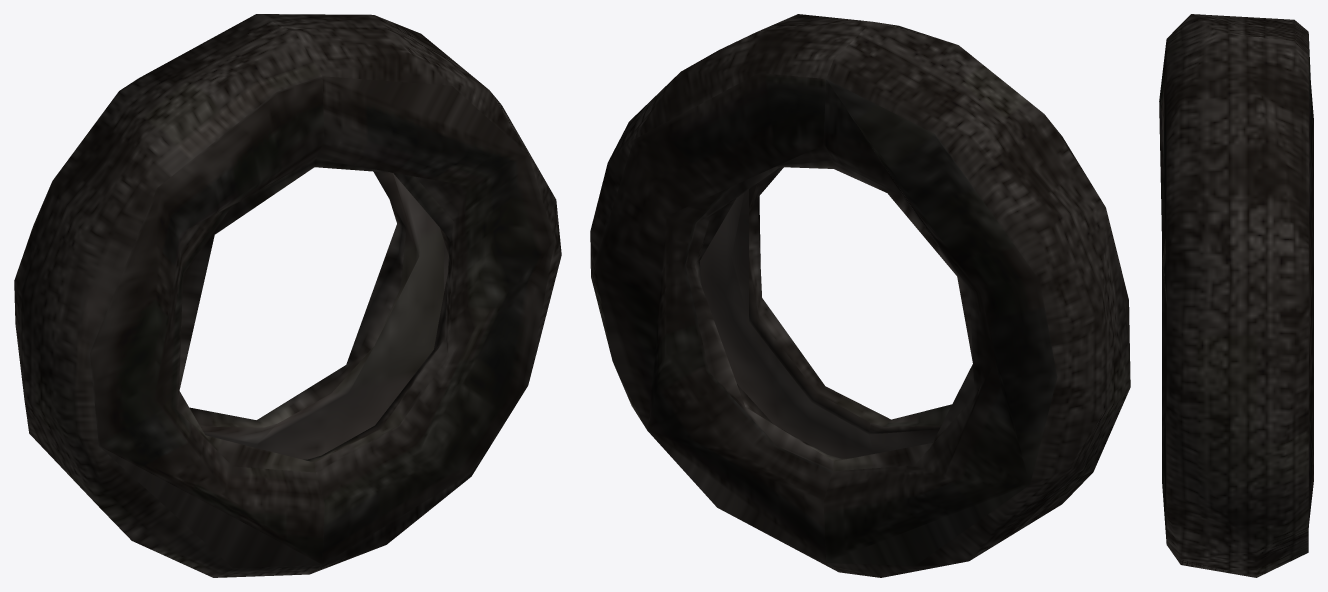
Rendered from old_tyre.glb.
3 renders of one model, left to right at view 1: azimuth 30°, elevation 25°; view 2: azimuth 150°, elevation 25°; view 3: azimuth 270°, elevation 25°, orthographic. The views are drawn at different scales.
Parts seen in each view (by area): view 1: old_tyre; view 2: old_tyre; view 3: old_tyre.
Part boxes in pixels (box(x1,y1,x2,y2)): old_tyre: box(14, 14, 561, 577); old_tyre: box(590, 14, 1130, 577); old_tyre: box(1159, 14, 1313, 577).
Bounding box in the file's own units: 0.5873 × 0.5945 × 0.1621.
Materials: 1 (1 with a texture image).
